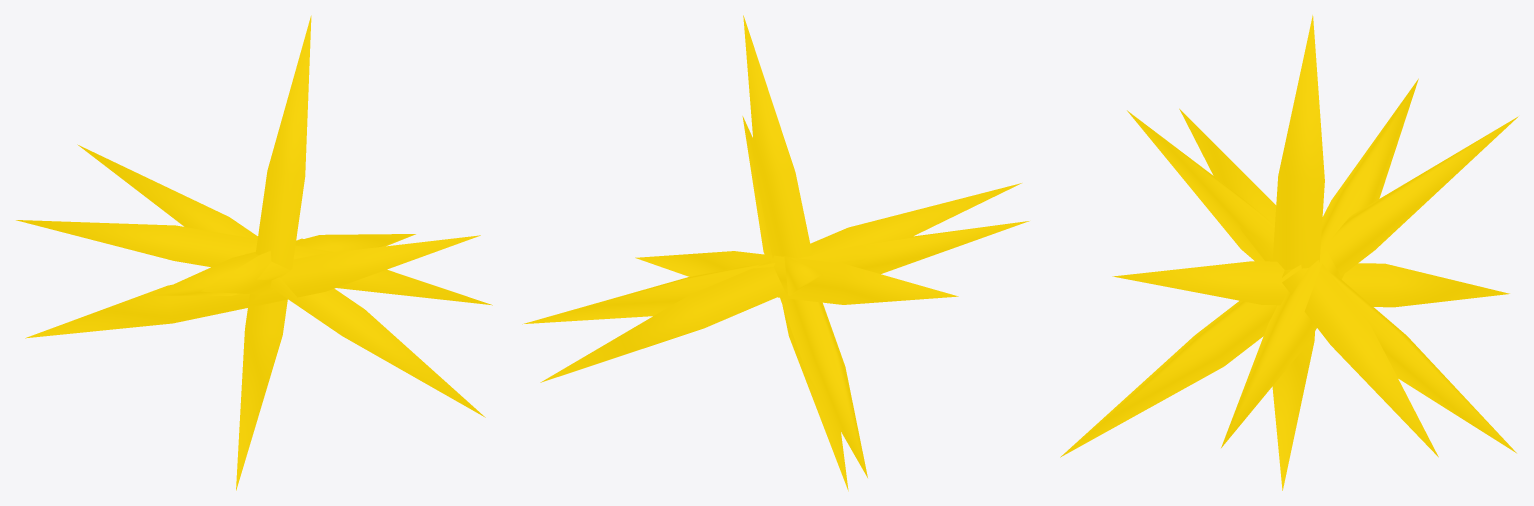
The model's file is OrangeSpark3.glb.
3 renders of one model, left to right at view 1: azimuth 30°, elevation 25°; view 2: azimuth 150°, elevation 25°; view 3: azimuth 270°, elevation 25°, orthographic. The views are drawn at different scales.
Parts seen in each view (by area): view 1: Spark; view 2: Spark; view 3: Spark.
Part boxes in pixels (x1,y1,x2,y2): Spark: [16, 15, 492, 490]; Spark: [522, 15, 1029, 491]; Spark: [1060, 15, 1518, 490].
Bounding box in the file's own units: 0.2118 × 0.22 × 0.1735.
